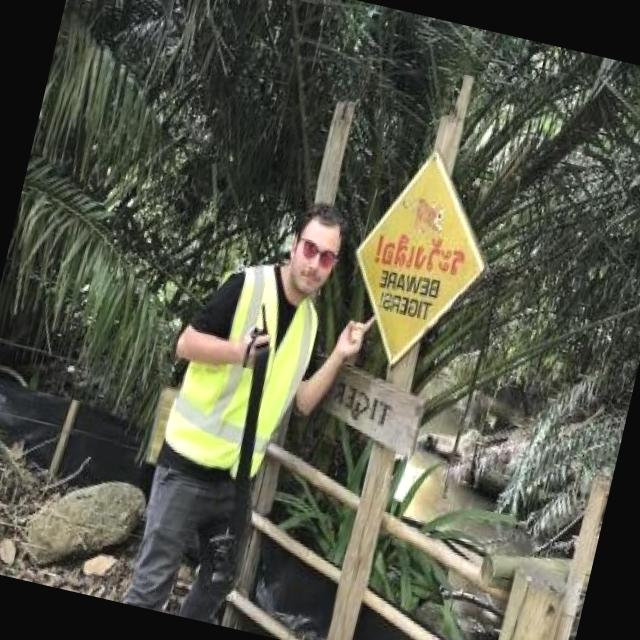gloves: (141, 292, 288, 389), (281, 290, 387, 407)
no-helmet: (272, 196, 354, 310)
vest: (183, 268, 326, 482)
